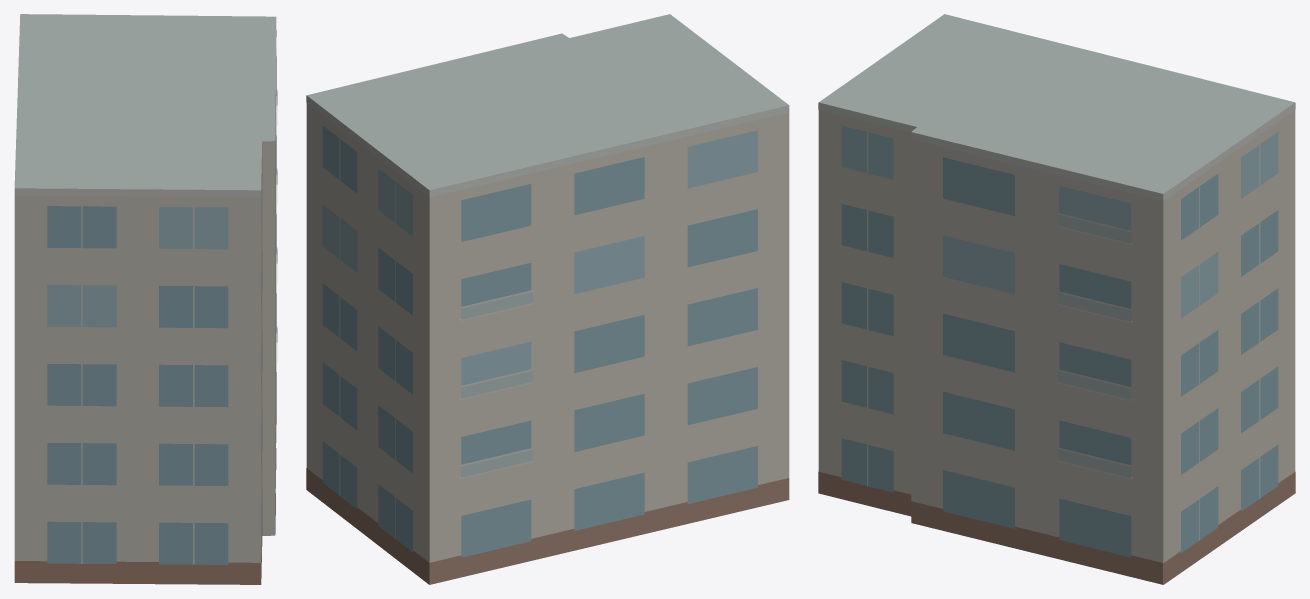
The model's file is survey-upis-32871177.glb.
3 views of the same model, side by side, from view 1: azimuth 30°, elevation 25°; view 2: azimuth 150°, elevation 25°; view 3: azimuth 270°, elevation 25° (orthographic).
Visible parts, largest first — view 1: survey-upis-32871177.tmp; view 2: survey-upis-32871177.tmp; view 3: survey-upis-32871177.tmp.
Part boxes in pixels (bbox=[...]): survey-upis-32871177.tmp: bbox=[14, 14, 277, 584]; survey-upis-32871177.tmp: bbox=[306, 14, 789, 584]; survey-upis-32871177.tmp: bbox=[818, 14, 1295, 584].
Bounding box in the file's own units: 13.04 × 13.2 × 14.61.
